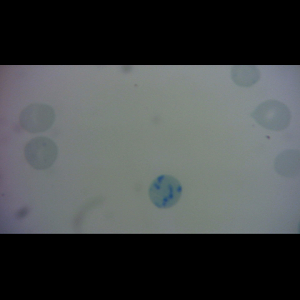aggregate reticulocyte: (147, 174, 183, 209)
erythrocyte: (249, 98, 294, 132), (18, 102, 56, 134)
punctate reticulocyte: (23, 136, 59, 171)
